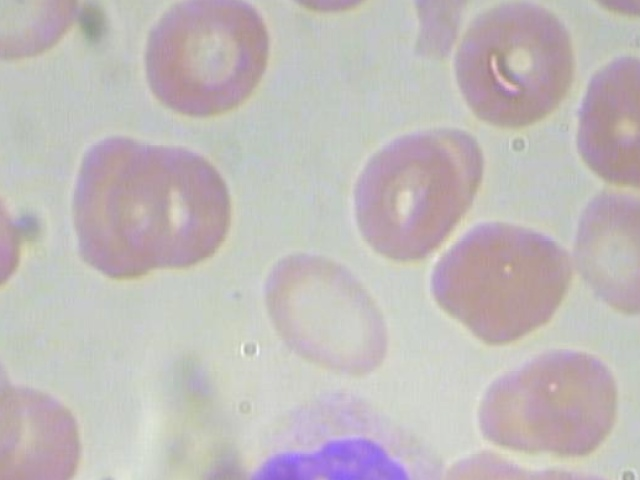RBC: (344, 122, 495, 272), (424, 215, 589, 348), (118, 0, 281, 130), (251, 244, 397, 388), (430, 0, 576, 141), (472, 346, 629, 469), (58, 118, 170, 285), (108, 144, 238, 274), (563, 44, 640, 202), (566, 171, 640, 331), (254, 0, 411, 20)
WBC: (194, 385, 481, 480)
